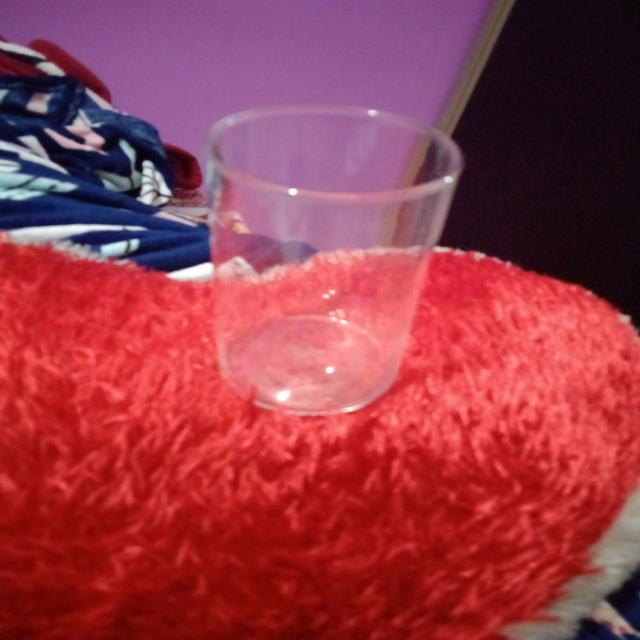Glass: (201, 100, 468, 418)
